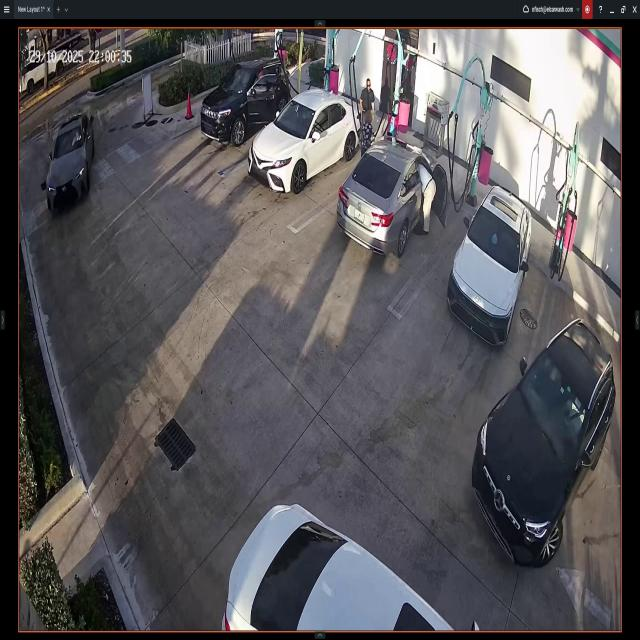Car: (474, 320, 616, 570), (222, 505, 481, 632), (338, 135, 450, 255), (451, 186, 532, 344), (249, 90, 358, 189), (200, 58, 292, 147), (43, 110, 93, 212)
